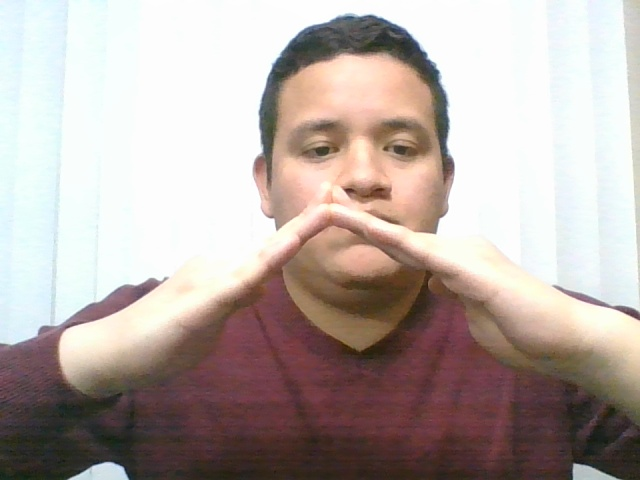House: (25, 171, 610, 427)
